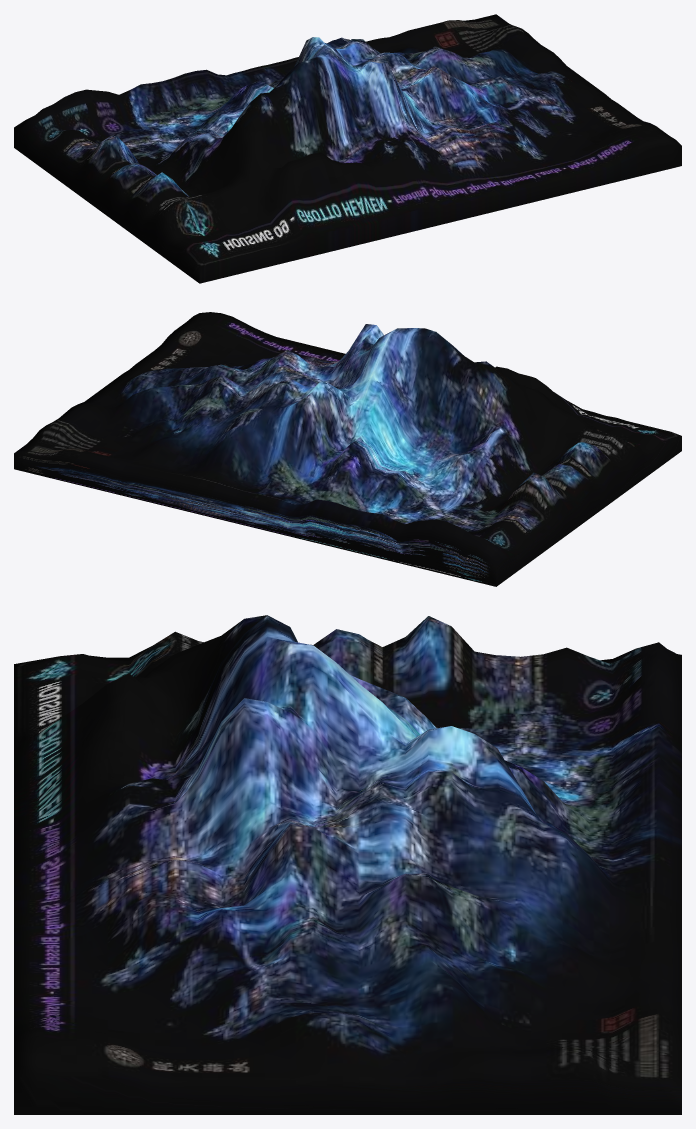
File: HOUSING_09_Grotto_Heaven.glb
3 renders of one model, top to bottom at view 1: azimuth 30°, elevation 25°; view 2: azimuth 150°, elevation 25°; view 3: azimuth 270°, elevation 25°, orthographic. The views are drawn at different scales.
Parts seen in each view (by area): view 1: HOUSING_09_Grotto_Heaven; view 2: HOUSING_09_Grotto_Heaven; view 3: HOUSING_09_Grotto_Heaven.
Part boxes in pixels (x1,y1,x2,y2): HOUSING_09_Grotto_Heaven: (14, 14, 681, 283); HOUSING_09_Grotto_Heaven: (14, 312, 681, 586); HOUSING_09_Grotto_Heaven: (14, 615, 681, 1114).
Bounding box in the file's own units: 2 × 0.51 × 1.33.
1 material, 1 textured.
